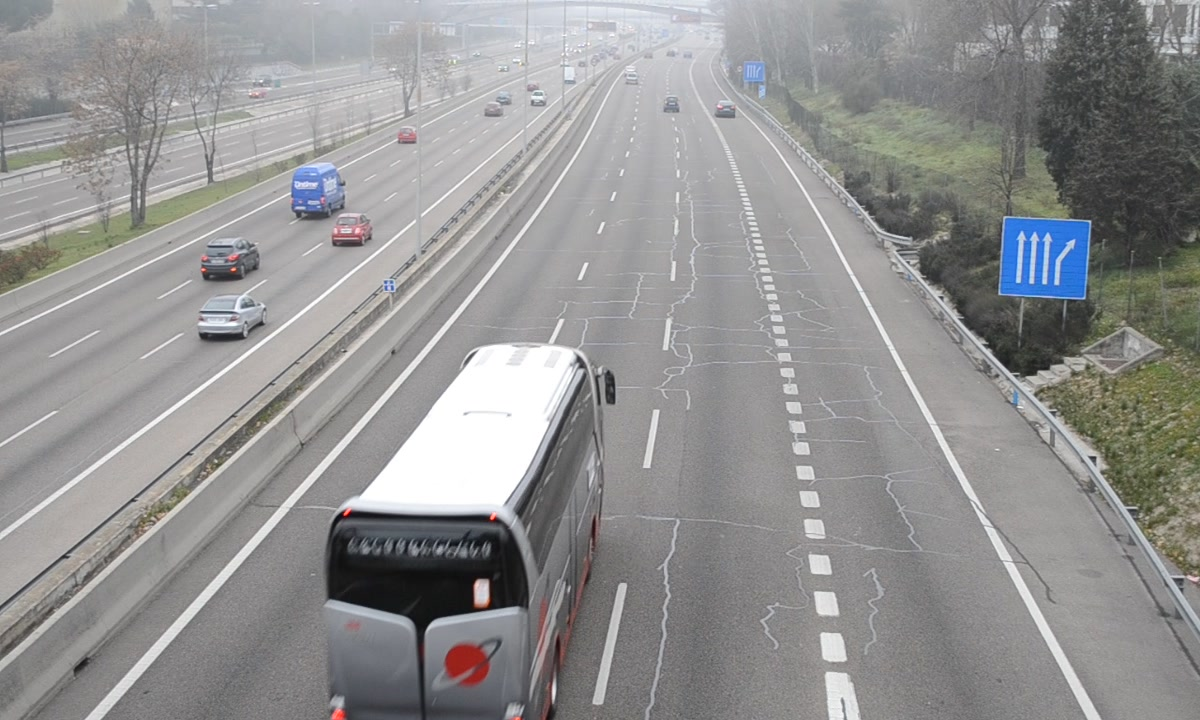bus: (325, 344, 605, 720)
car: (714, 100, 737, 120), (662, 94, 682, 115)
